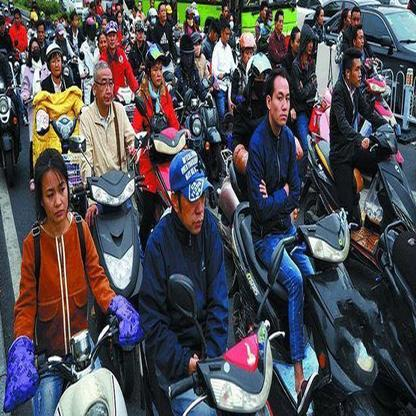target: (234, 72, 376, 410), (140, 151, 270, 414), (12, 149, 136, 410), (306, 51, 414, 235), (81, 61, 141, 290)
